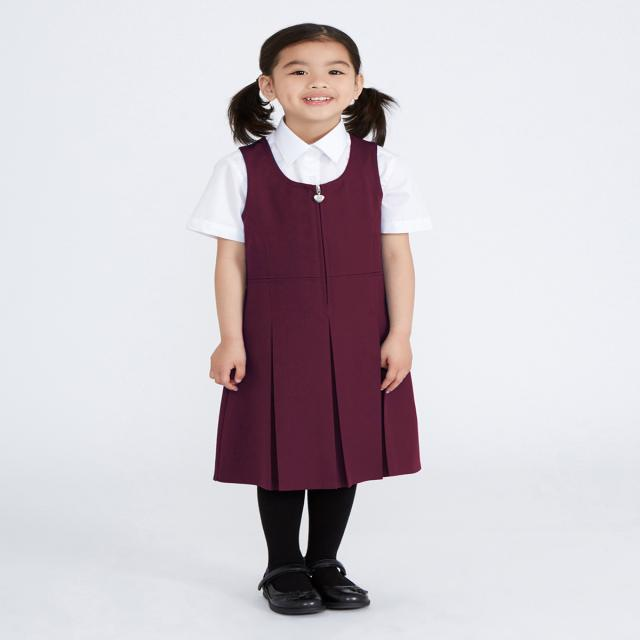child: (185, 12, 449, 630)
